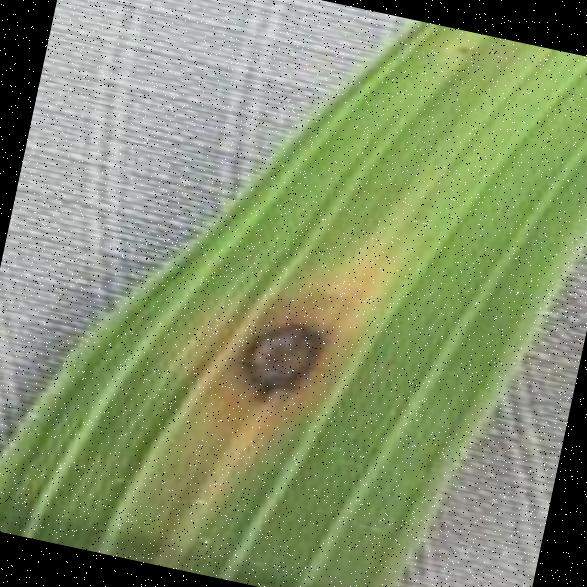Brown_Spot: (204, 288, 353, 431), (446, 33, 479, 60)
